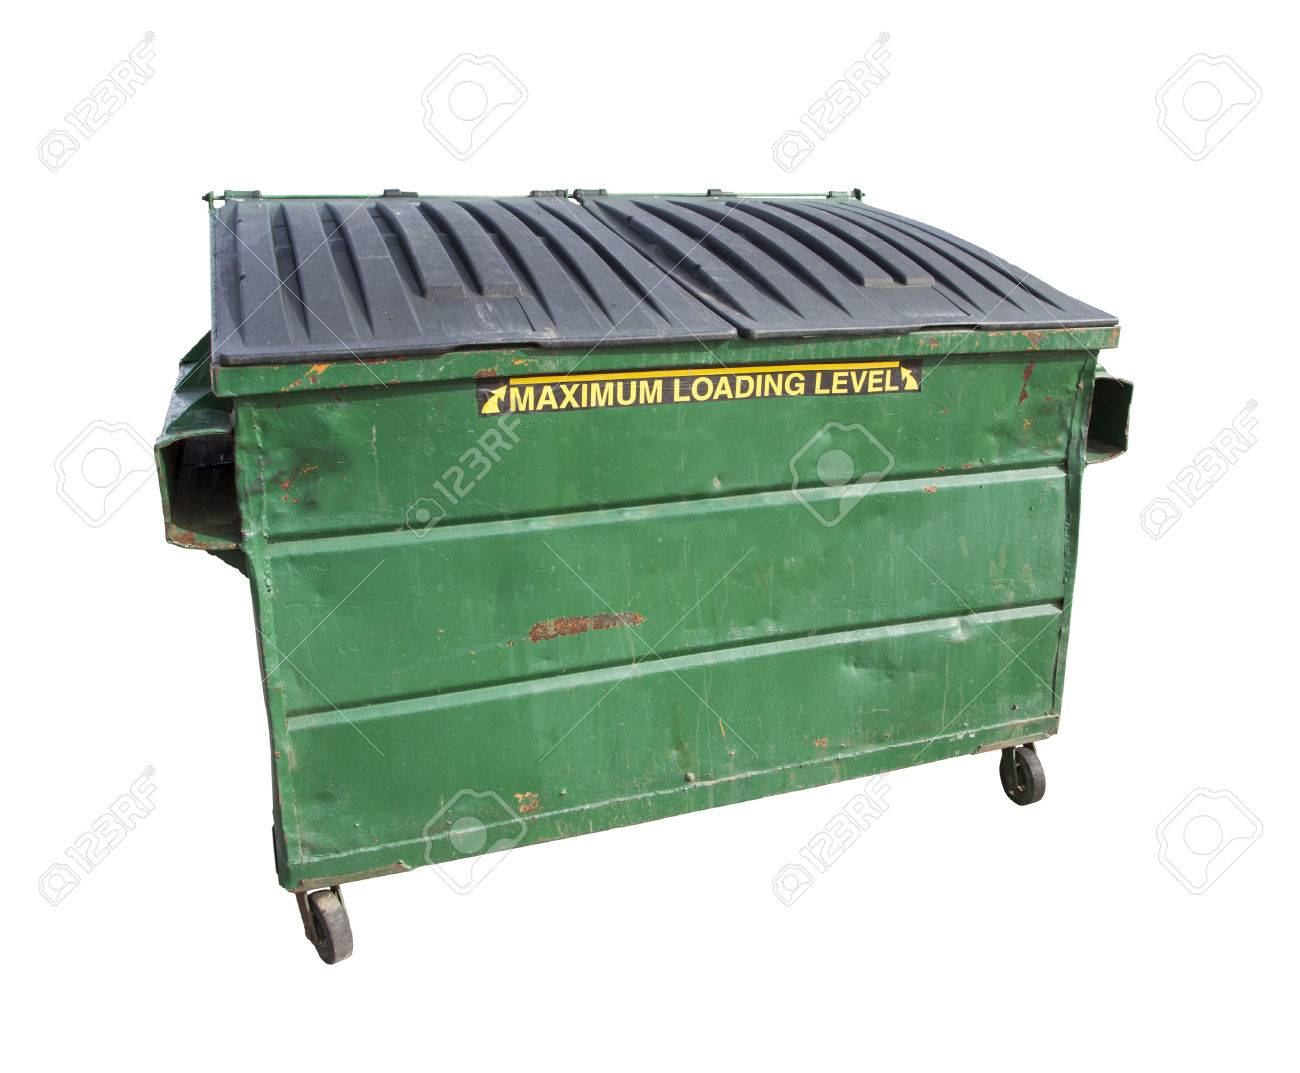Dumpster: (154, 176, 1154, 967)
